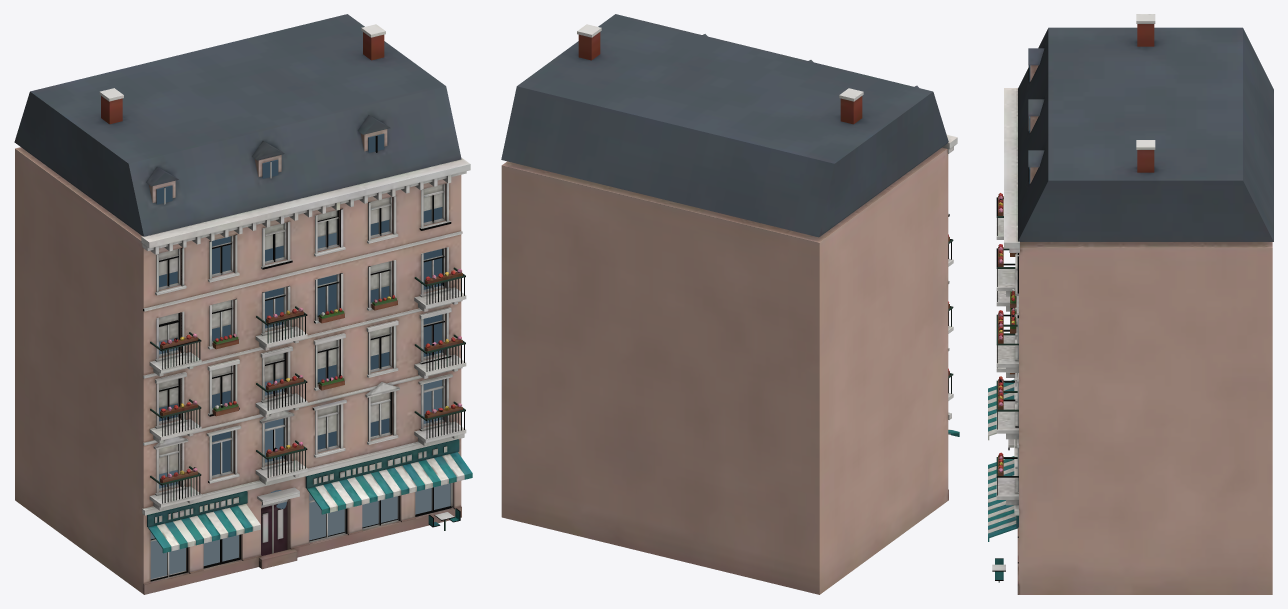
File: getkong-hh7.glb
3 renders of one model, left to right at view 1: azimuth 30°, elevation 25°; view 2: azimuth 150°, elevation 25°; view 3: azimuth 270°, elevation 25°, orthographic.
Visible parts, largest first — view 1: Haus; view 2: Haus; view 3: Haus.
Boxes of the visible parts, <box> form: Haus: <box>14,14,472,594</box>; Haus: <box>501,14,959,594</box>; Haus: <box>988,14,1273,594</box>.
Size of the model in its own units: 17.3 by 22.95 by 13.5.
4 materials, 1 textured.
